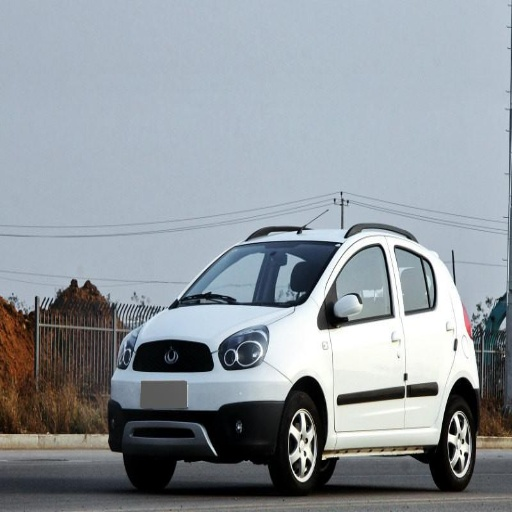front_bumper: (110, 329, 290, 456)
front_glass: (172, 242, 336, 306)
front_left_door: (325, 239, 404, 434)
